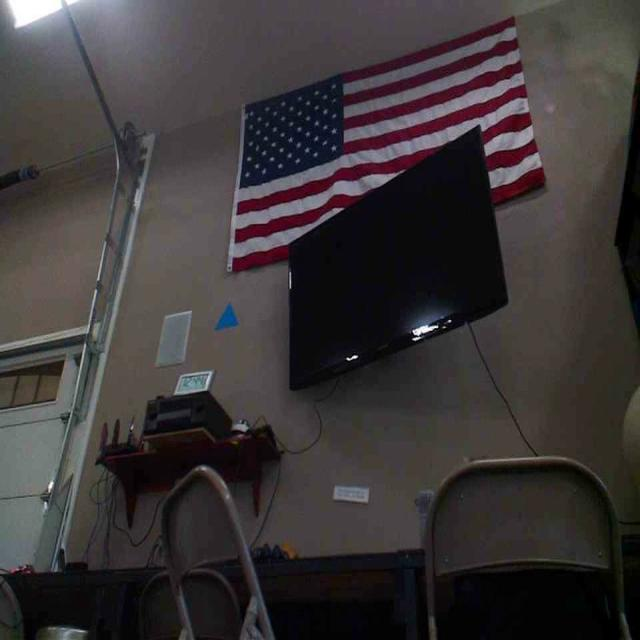triangle_blue: (213, 300, 239, 330)
